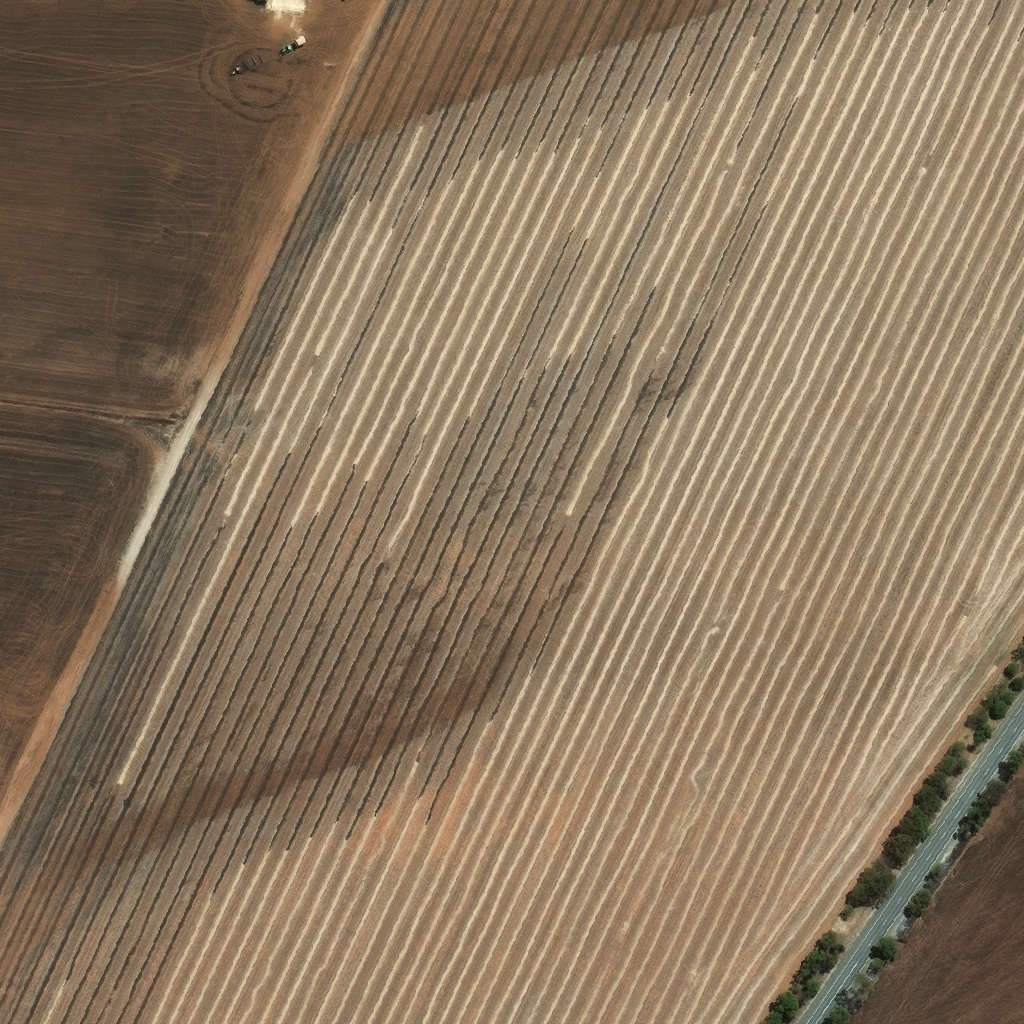4 un-classified: (46, 682, 56, 691)
